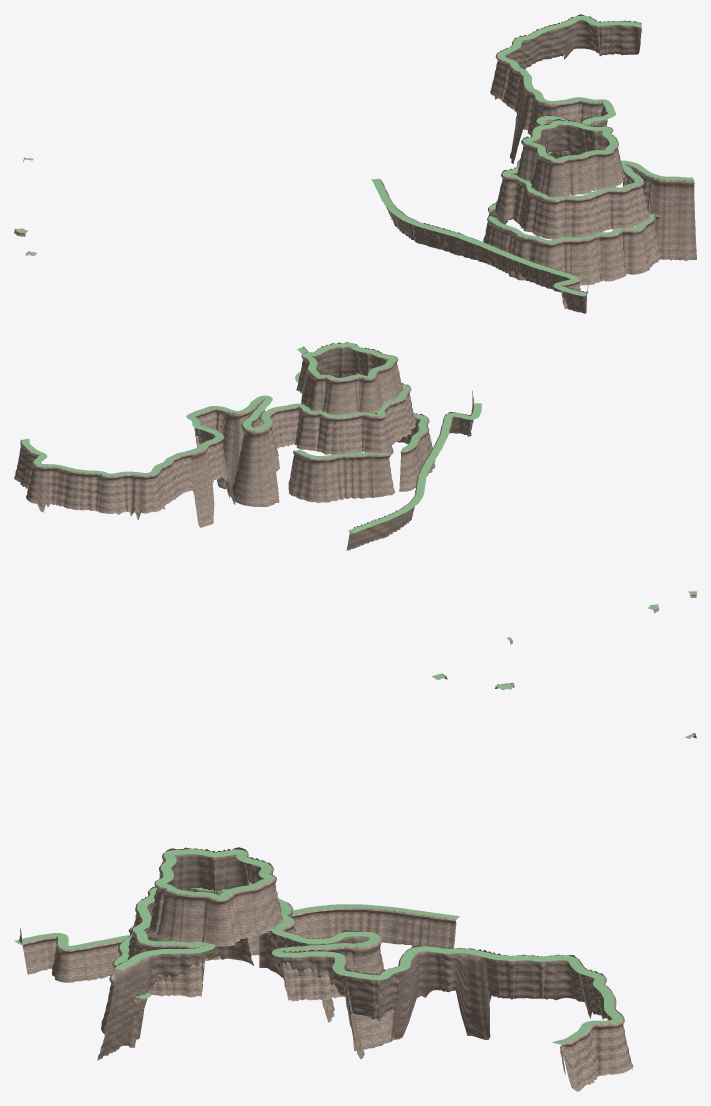
File: CliffWall_plateau_west_n.glb
3 views of the same model, one above another, from view 1: azimuth 30°, elevation 25°; view 2: azimuth 150°, elevation 25°; view 3: azimuth 270°, elevation 25° (orthographic). The views are drawn at different scales.
Visible parts, largest first — view 1: CliffWall_plateau_west_n-rock1, CliffWall_plateau_west_n-rock2, CliffWall_plateau_west_n-rock0, CliffWall_plateau_west_n-rock7, CliffWall_plateau_west_n-lip1, CliffWall_plateau_west_n-lip7, CliffWall_plateau_west_n-lip0, CliffWall_plateau_west_n-lip2; view 2: CliffWall_plateau_west_n-rock1, CliffWall_plateau_west_n-rock0, CliffWall_plateau_west_n-rock3, CliffWall_plateau_west_n-lip1, CliffWall_plateau_west_n-rock7, CliffWall_plateau_west_n-rock2, CliffWall_plateau_west_n-lip7, CliffWall_plateau_west_n-lip0; view 3: CliffWall_plateau_west_n-rock1, CliffWall_plateau_west_n-rock0, CliffWall_plateau_west_n-rock7, CliffWall_plateau_west_n-lip1, CliffWall_plateau_west_n-lip0, CliffWall_plateau_west_n-rock2, CliffWall_plateau_west_n-lip7, CliffWall_plateau_west_n-rock3.
Part boxes in pixels (<box>): CliffWall_plateau_west_n-rock1: <box>490,14,696,260</box>; CliffWall_plateau_west_n-rock2: <box>484,214,661,285</box>; CliffWall_plateau_west_n-rock0: <box>516,119,625,197</box>; CliffWall_plateau_west_n-rock7: <box>380,179,588,313</box>; CliffWall_plateau_west_n-lip1: <box>497,15,693,199</box>; CliffWall_plateau_west_n-lip7: <box>371,178,587,296</box>; CliffWall_plateau_west_n-lip0: <box>523,120,617,161</box>; CliffWall_plateau_west_n-lip2: <box>488,213,654,243</box>; CliffWall_plateau_west_n-rock1: <box>14,346,416,527</box>; CliffWall_plateau_west_n-rock0: <box>296,342,402,414</box>; CliffWall_plateau_west_n-rock3: <box>288,450,394,502</box>; CliffWall_plateau_west_n-lip1: <box>21,347,410,476</box>; CliffWall_plateau_west_n-rock7: <box>346,390,474,550</box>; CliffWall_plateau_west_n-rock2: <box>335,412,435,491</box>; CliffWall_plateau_west_n-lip7: <box>349,403,481,533</box>; CliffWall_plateau_west_n-lip0: <box>303,342,396,380</box>; CliffWall_plateau_west_n-rock1: <box>97,886,633,1091</box>; CliffWall_plateau_west_n-rock0: <box>149,847,283,946</box>; CliffWall_plateau_west_n-rock7: <box>19,907,456,982</box>; CliffWall_plateau_west_n-lip1: <box>115,887,622,1044</box>; CliffWall_plateau_west_n-lip0: <box>156,849,274,899</box>; CliffWall_plateau_west_n-rock2: <box>101,925,253,1047</box>; CliffWall_plateau_west_n-lip7: <box>14,904,459,949</box>; CliffWall_plateau_west_n-rock3: <box>259,933,334,1022</box>.
Bounding box in the file's own units: 3410 × 546 × 2359.
Materials: 4 (1 with a texture image).
